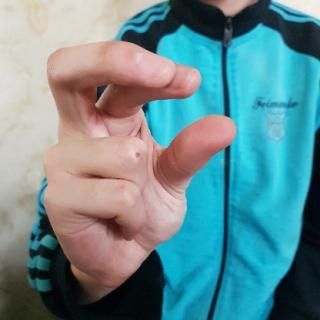DHELL: (32, 33, 240, 301)
